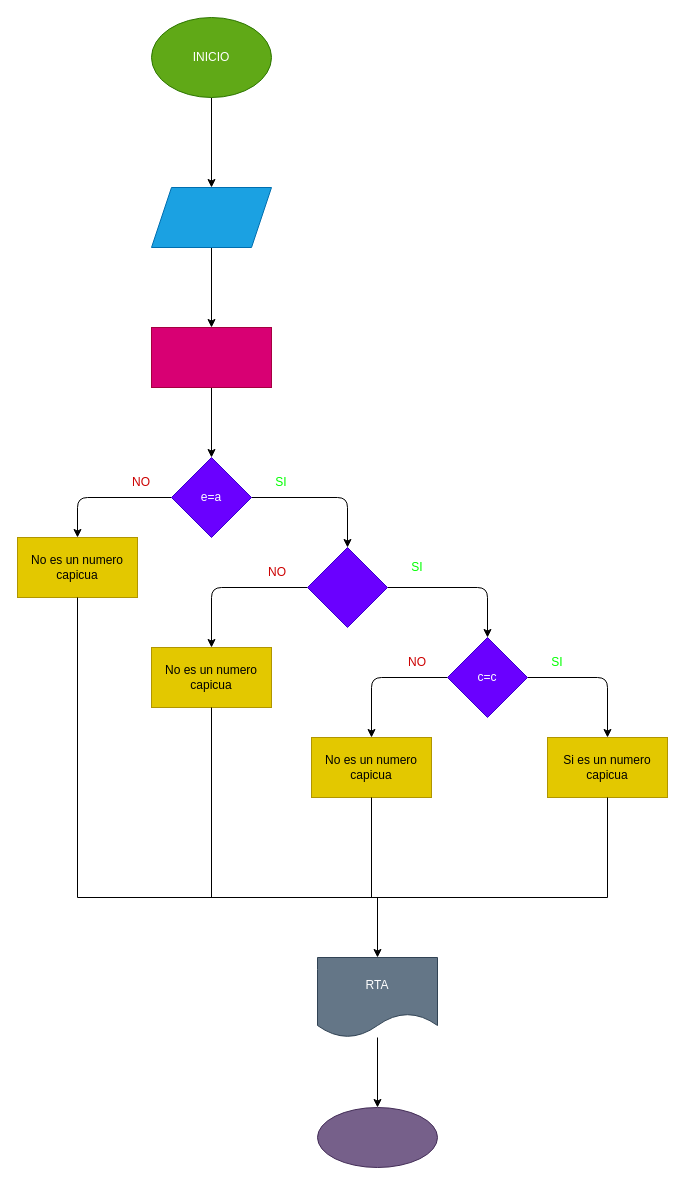
Image size: 685x1185. Some labels were removed from this diagram. Each missing label, with the centre of its shape:
"a,b,c,d,e" belongs at [211,217].
"d=b" belongs at [347,587].
"e=a d=b c=c" belongs at [211,357].
"FIN" belongs at [377,1137].
